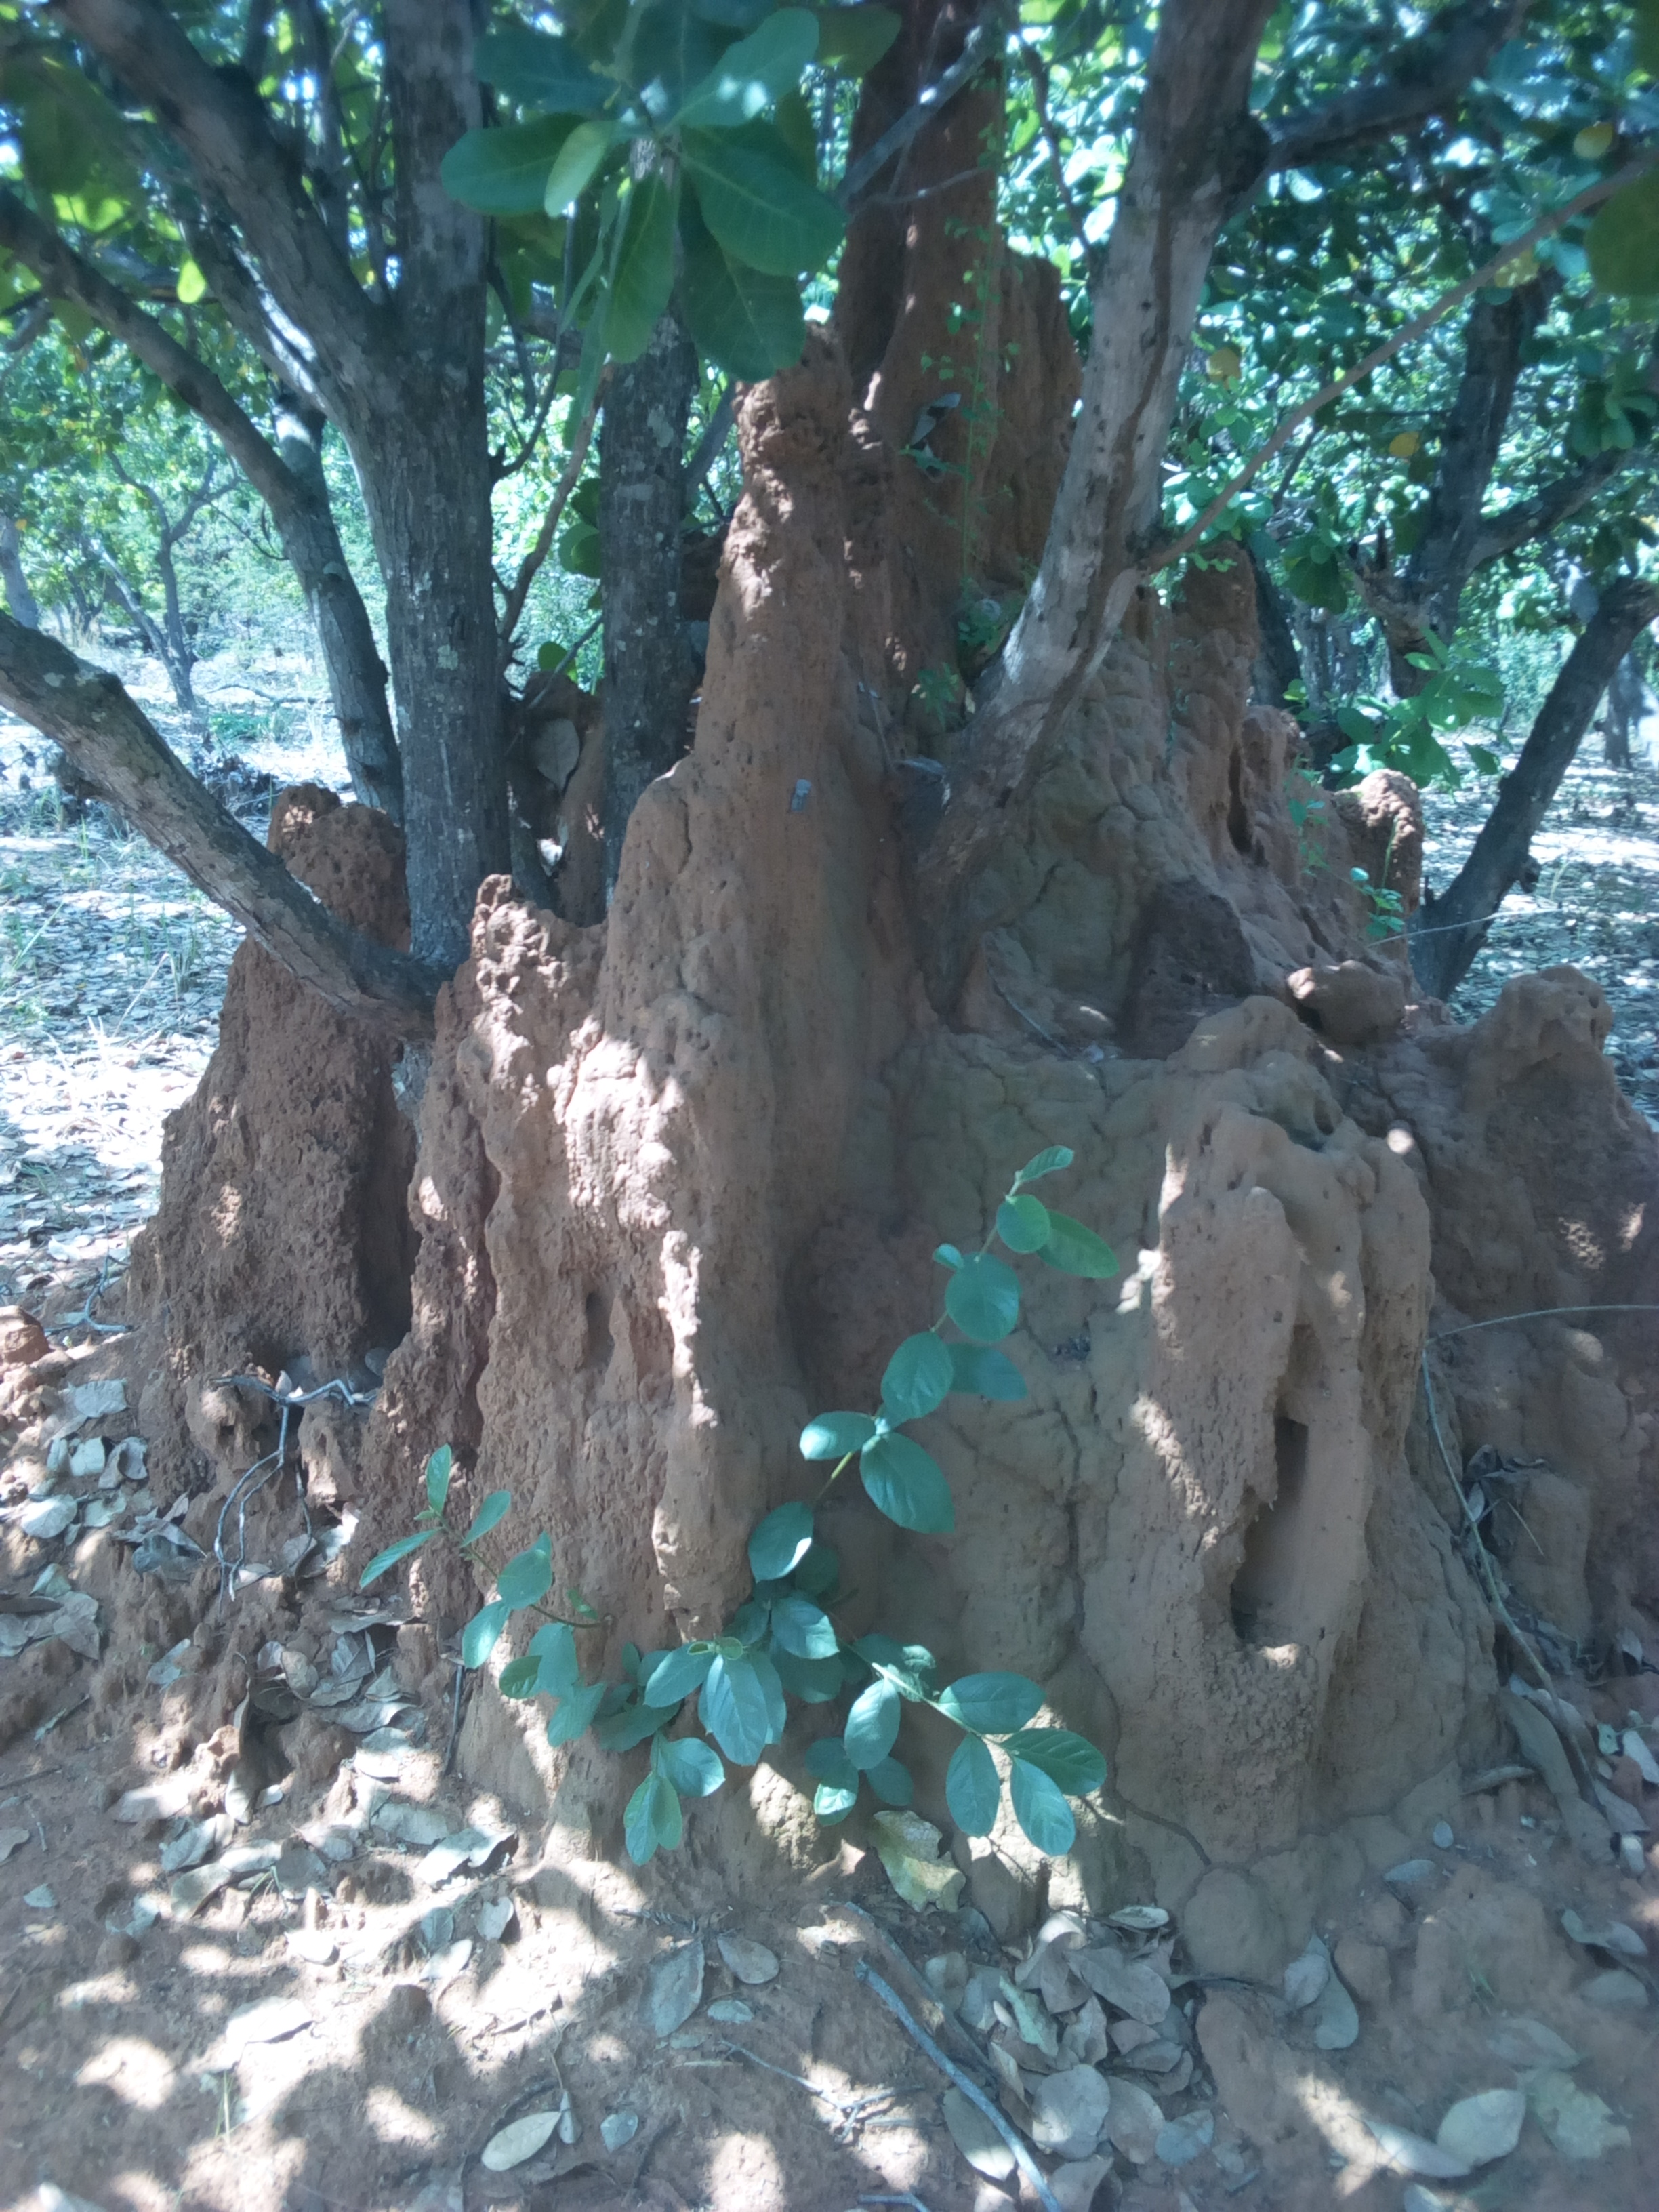Termites: (626, 547, 850, 1679), (1148, 1078, 1467, 1791), (436, 934, 626, 1547), (134, 1028, 349, 1381), (61, 719, 301, 920)
